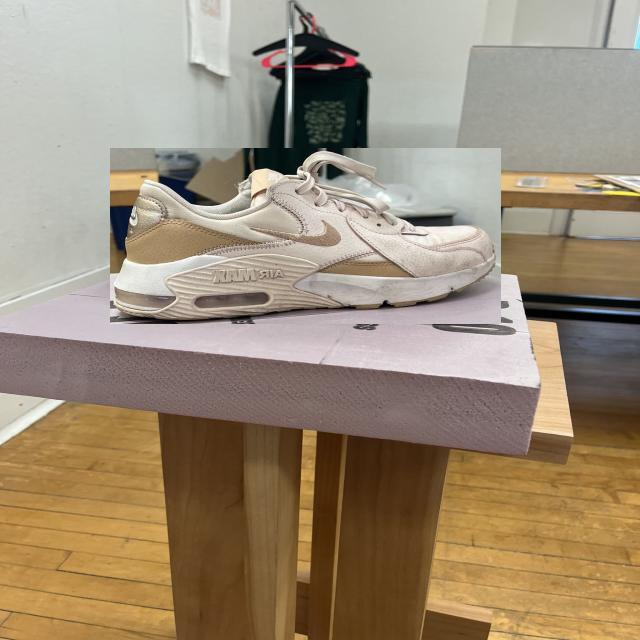shoes: (110, 148, 501, 324)
